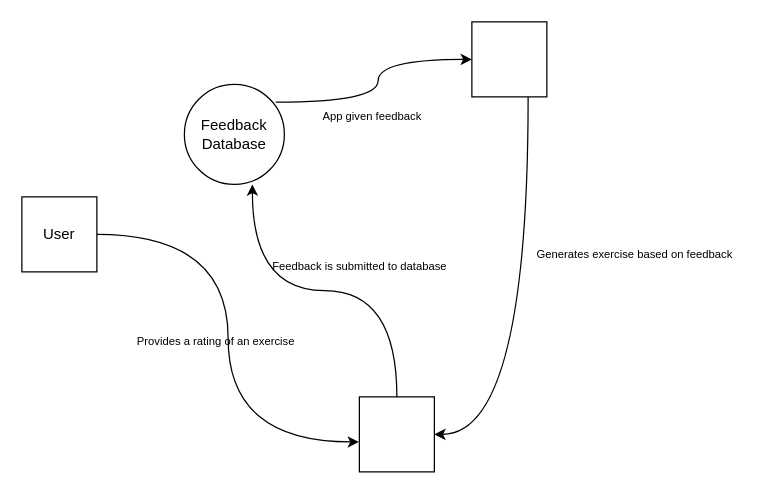
Some shapes in this 769 by 494 pixel diagram are drawn without their labels. Here are the shapes that lost their labels. From the top down, the centre of each, then its label:
At point 509,59: "Application".
At point 396,434: "Exercise".
